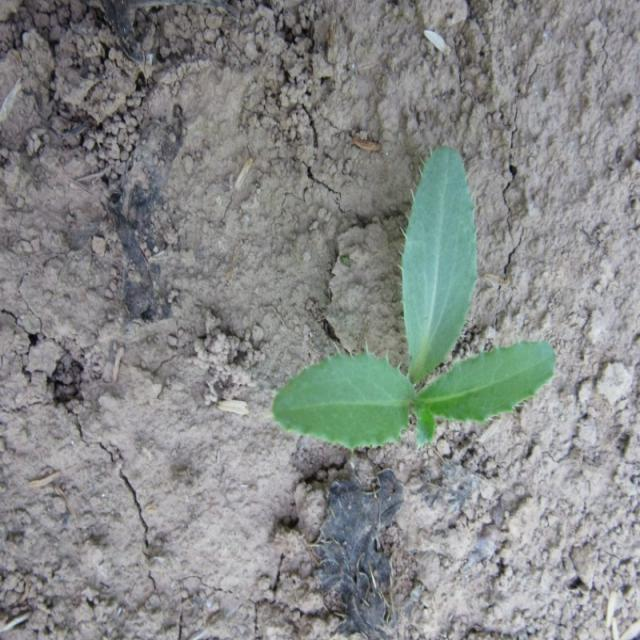cs: (270, 136, 560, 450)
